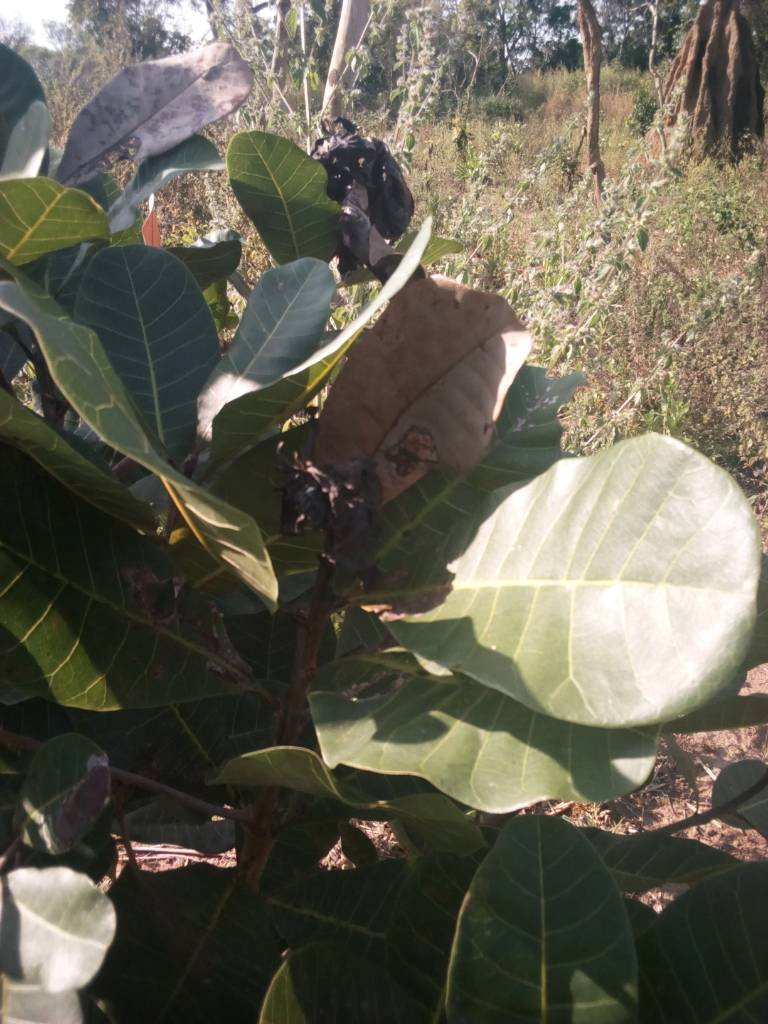Dessèchement des bourgeons: (329, 125, 418, 260)
